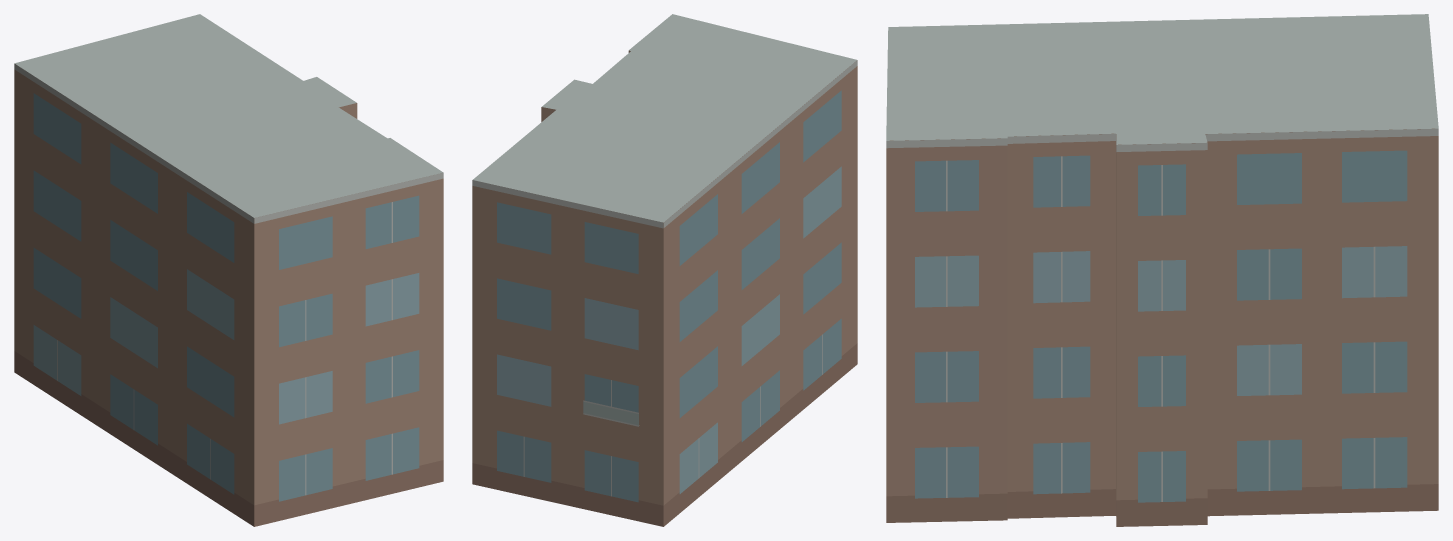
Rendered from survey-upis-32696339.glb.
The picture shows the model from 3 angles, left to right: view 1: azimuth 30°, elevation 25°; view 2: azimuth 150°, elevation 25°; view 3: azimuth 270°, elevation 25°; orthographic projection. The views are drawn at different scales.
Visible parts, largest first — view 1: survey-upis-32696339.tmp; view 2: survey-upis-32696339.tmp; view 3: survey-upis-32696339.tmp.
Boxes of the visible parts, x1,y1,x2,y2 form: survey-upis-32696339.tmp: [14, 14, 443, 526]; survey-upis-32696339.tmp: [472, 14, 857, 526]; survey-upis-32696339.tmp: [886, 14, 1438, 526].
Size of the model in its own units: 9.34 by 12.7 by 16.66.
